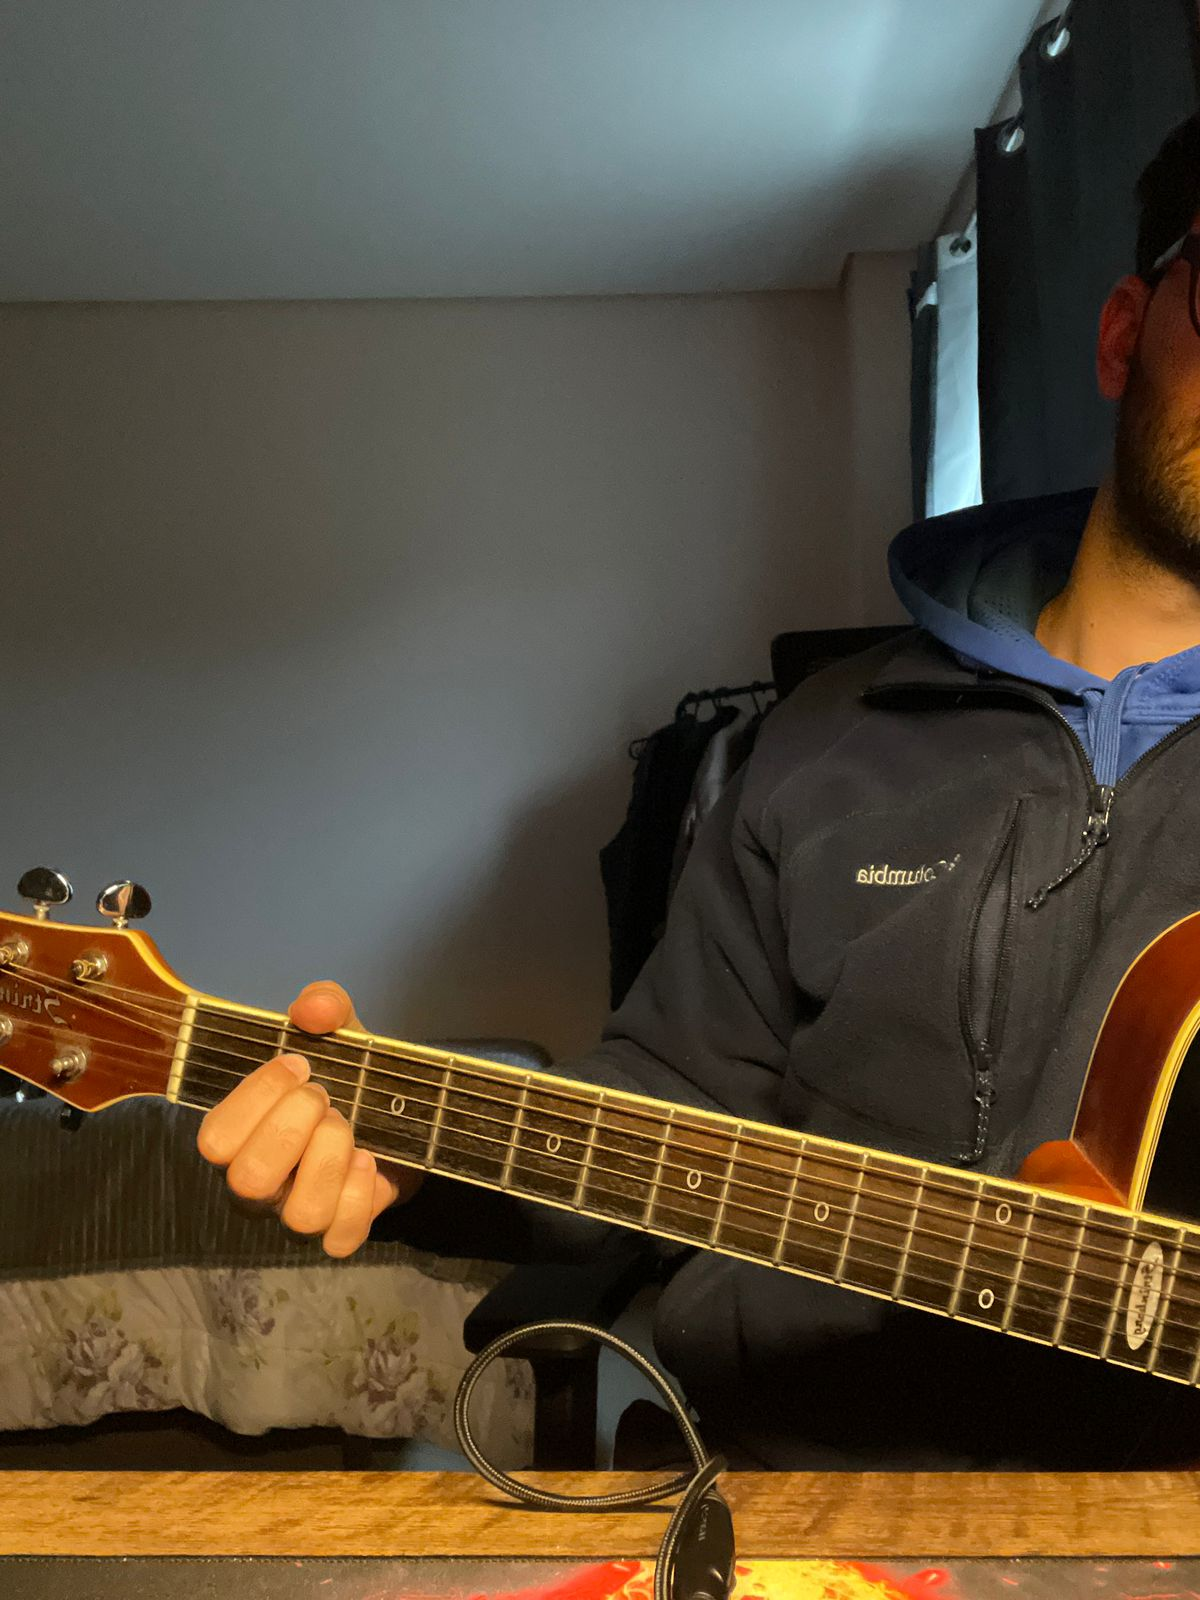la: (239, 1017, 384, 1163)
violao: (6, 850, 1200, 1439)
